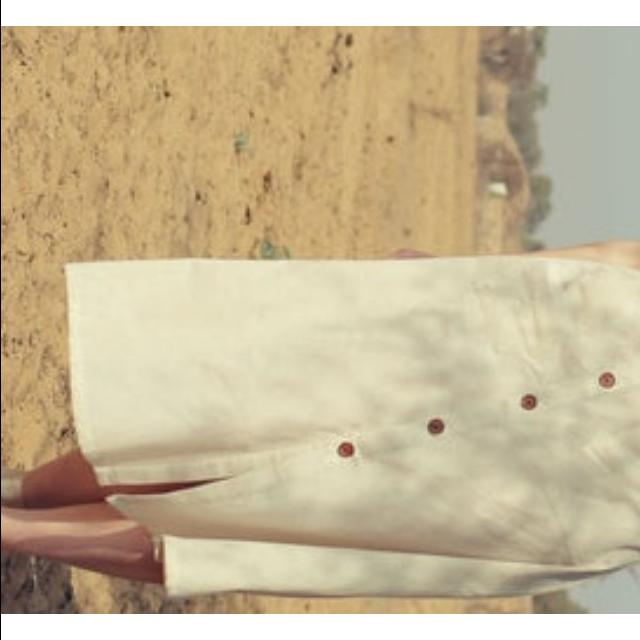linen: (64, 204, 640, 580)
